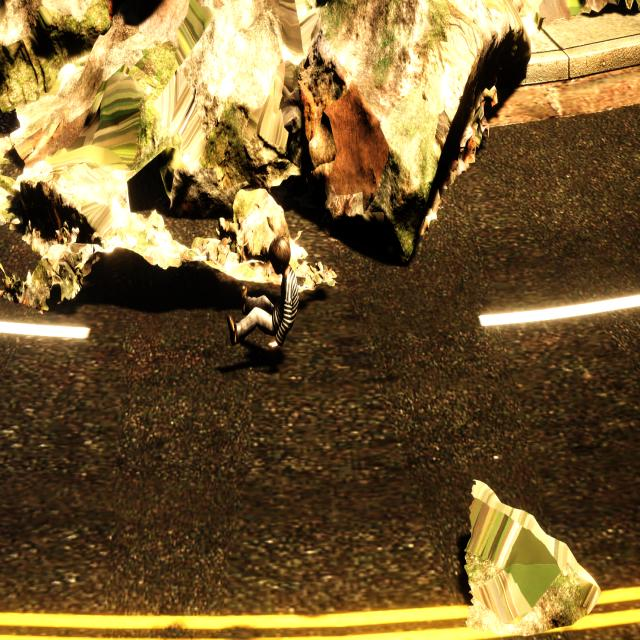Human: (224, 234, 303, 362)
